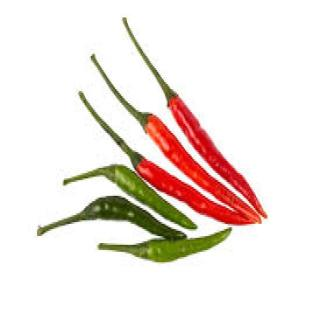Cabai Hijau: (115, 162, 197, 228), (97, 227, 235, 265)
Cabai Merah: (167, 91, 269, 217)
